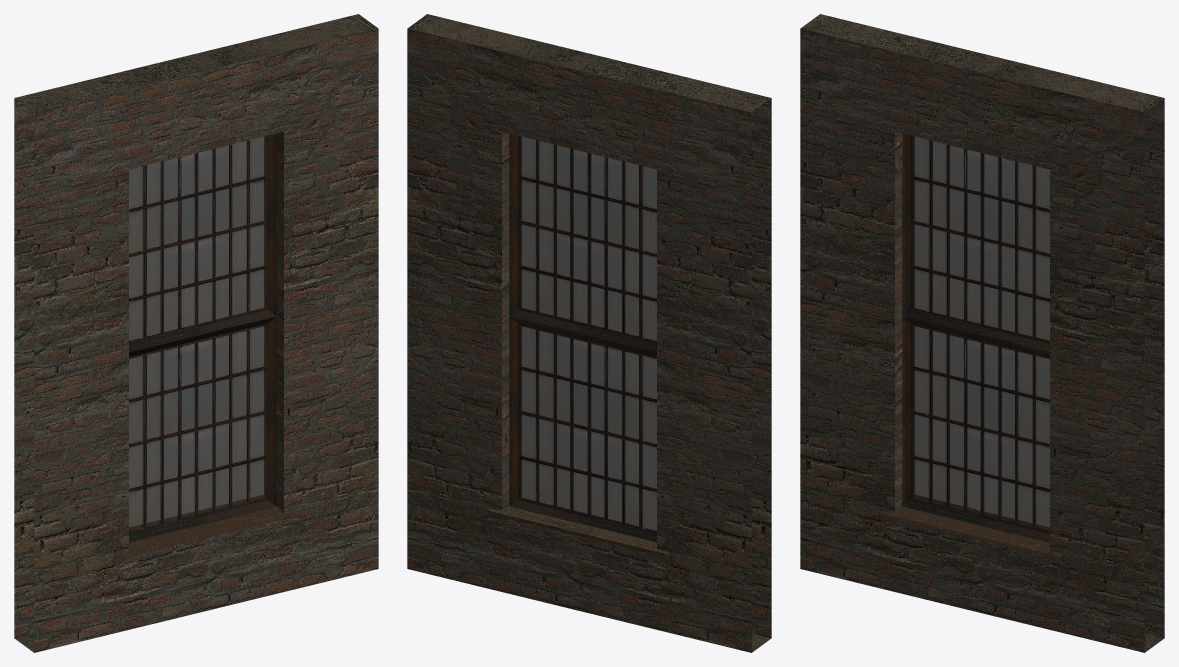
File: wall_hr_1_m_2.glb
3 views of the same model, side by side, from view 1: azimuth 30°, elevation 25°; view 2: azimuth 150°, elevation 25°; view 3: azimuth 330°, elevation 25° (orthographic).
Visible parts, largest first — view 1: wall_hr_1_m_2; view 2: wall_hr_1_m_2; view 3: wall_hr_1_m_2.
Part boxes in pixels (x1,y1,x2,y2): wall_hr_1_m_2: (14, 14, 378, 652); wall_hr_1_m_2: (407, 14, 771, 652); wall_hr_1_m_2: (800, 14, 1164, 652).
Bounding box in the file's own units: 4 × 6 × 0.505.
6 materials, 6 textured.
